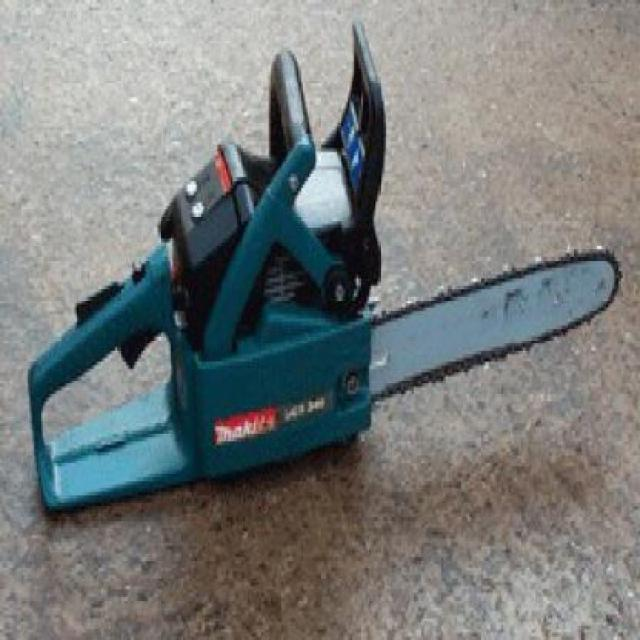Chainsaw: (17, 19, 617, 512)
